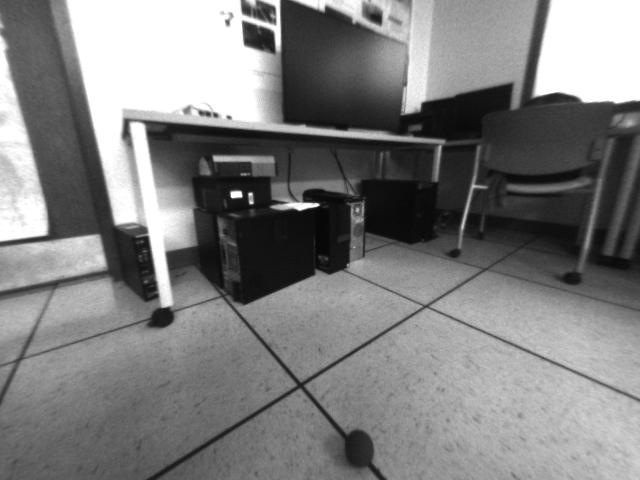dogtoy: (334, 418, 384, 474)
